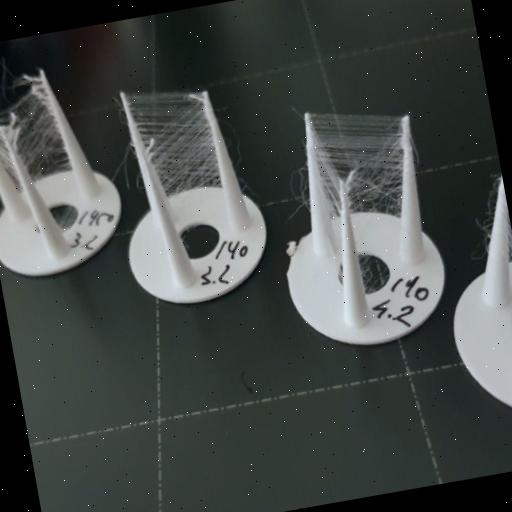stringing: (124, 94, 223, 196), (311, 112, 401, 222), (0, 71, 71, 179), (359, 256, 374, 290)
